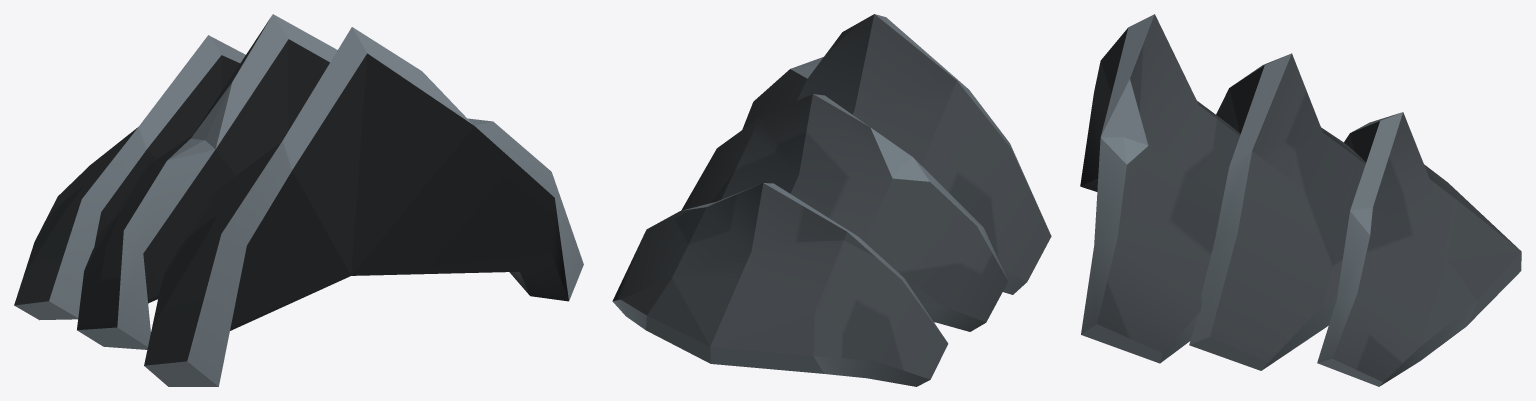
File: SM_Chr_Attach_Armour_Dark_Neck_Small_01.fbx
The picture shows the model from 3 angles, left to right: view 1: azimuth 30°, elevation 25°; view 2: azimuth 150°, elevation 25°; view 3: azimuth 270°, elevation 25°; orthographic projection. The views are drawn at different scales.
Visible parts, largest first — view 1: SM_Chr_Attach_Armour_Dark_Neck_Small_01; view 2: SM_Chr_Attach_Armour_Dark_Neck_Small_01; view 3: SM_Chr_Attach_Armour_Dark_Neck_Small_01.
Boxes of the visible parts, left/top/right/bottom form: SM_Chr_Attach_Armour_Dark_Neck_Small_01: left=14, top=14, right=583, bottom=386; SM_Chr_Attach_Armour_Dark_Neck_Small_01: left=612, top=14, right=1051, bottom=386; SM_Chr_Attach_Armour_Dark_Neck_Small_01: left=1080, top=14, right=1521, bottom=386.
Size of the model in its own units: 20.67 by 16.18 by 21.82.
